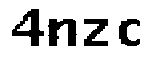4: (9, 6, 46, 48)
c: (114, 15, 145, 50)
n: (47, 10, 80, 49)
z: (83, 14, 112, 50)
